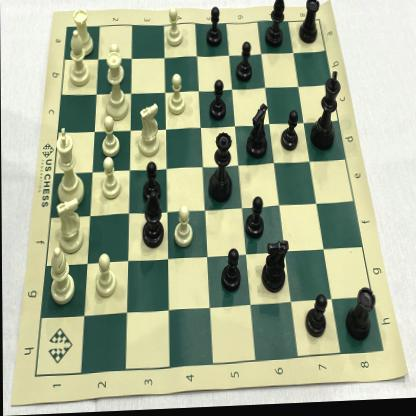black-bishop: (141, 190, 165, 250), (264, 0, 286, 51)
black-king: (310, 72, 342, 154)
black-knight: (260, 240, 290, 298), (246, 106, 269, 162)
black-pawn: (302, 296, 328, 343), (218, 248, 242, 296), (244, 196, 264, 244), (142, 160, 162, 206), (207, 80, 227, 124), (280, 112, 300, 155), (235, 42, 254, 85), (206, 7, 223, 51)
black-queen: (206, 130, 234, 206)
black-rook: (343, 288, 377, 346), (298, 0, 320, 48)
white-bishop: (46, 247, 76, 306), (67, 30, 90, 90)
white-king: (54, 126, 84, 209)
white-knight: (54, 198, 84, 255), (136, 105, 162, 160)
white-pawn: (93, 252, 117, 301), (99, 157, 121, 202), (173, 204, 194, 250), (99, 115, 121, 158), (167, 73, 186, 118), (165, 8, 184, 50), (106, 44, 125, 84)
white-queen: (100, 52, 131, 123)
white-rook: (72, 7, 93, 58)
